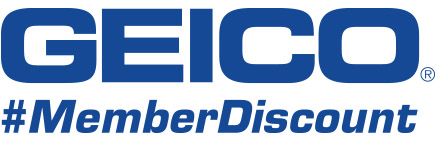geico: (3, 8, 423, 83)
